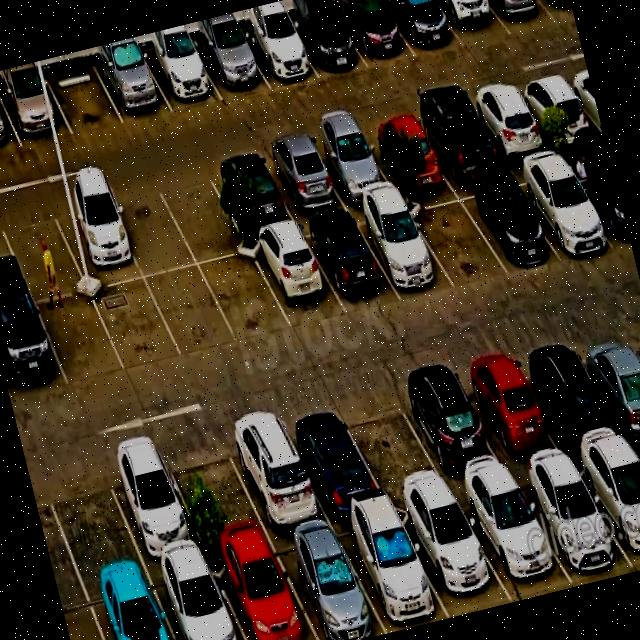empty: (158, 427, 269, 552), (335, 383, 450, 503), (38, 452, 143, 583), (403, 189, 508, 287), (154, 165, 249, 264), (105, 180, 196, 277), (145, 265, 238, 358), (91, 278, 183, 372), (0, 204, 87, 301), (199, 253, 292, 343), (36, 292, 125, 386), (45, 62, 124, 134)
occupied: (391, 365, 511, 491), (332, 507, 449, 633), (218, 406, 330, 536), (454, 477, 572, 600), (513, 463, 633, 583), (394, 495, 512, 617), (453, 350, 568, 475), (97, 438, 205, 566), (268, 525, 386, 640), (277, 398, 387, 520), (521, 335, 630, 458), (206, 539, 317, 640), (507, 155, 615, 257), (453, 174, 558, 273), (247, 225, 346, 330), (300, 212, 400, 313), (351, 201, 454, 297), (49, 191, 143, 290), (572, 444, 640, 571), (147, 554, 245, 640), (571, 324, 640, 442), (410, 99, 504, 181), (559, 145, 631, 248), (206, 152, 295, 235), (259, 139, 347, 220), (0, 299, 68, 401), (307, 127, 395, 205), (359, 113, 449, 189), (466, 85, 552, 162), (84, 568, 175, 640), (514, 73, 599, 148), (285, 6, 367, 77), (93, 52, 173, 123), (141, 43, 222, 112), (333, 0, 415, 68), (238, 21, 318, 88), (0, 74, 72, 146), (193, 32, 269, 99), (384, 0, 463, 56), (433, 0, 511, 48), (486, 0, 557, 34), (541, 0, 575, 22)
